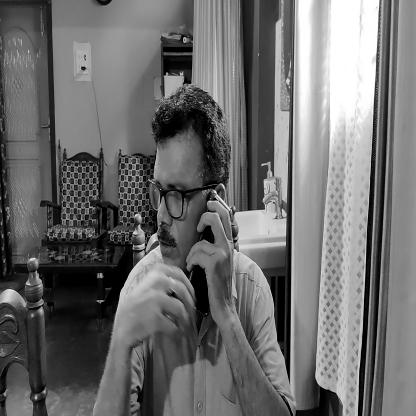Distracted: (152, 113, 210, 280)
